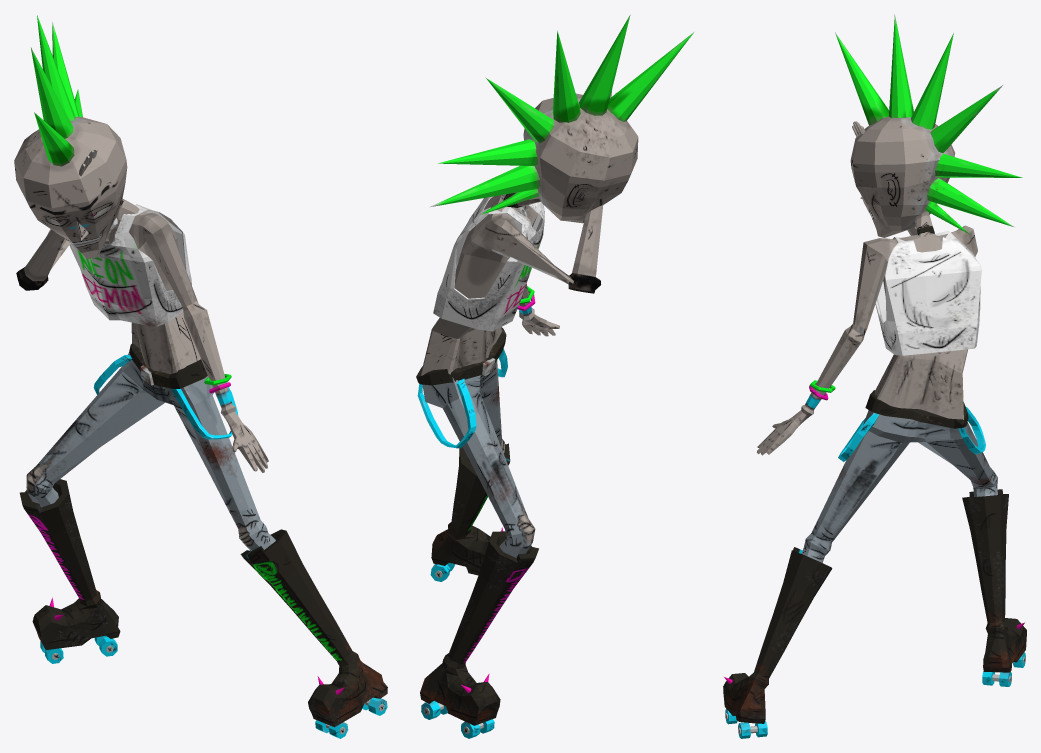
The model's file is punkAnimation_000028.obj.
3 renders of one model, left to right at view 1: azimuth 30°, elevation 25°; view 2: azimuth 150°, elevation 25°; view 3: azimuth 270°, elevation 25°, orthographic. The views are drawn at different scales.
Parts seen in each view (by area): view 1: Cube.004_Cube.003; view 2: Cube.004_Cube.003; view 3: Cube.004_Cube.003.
Boxes of the visible parts, x1,y1,x2,y2 form: Cube.004_Cube.003: (14,15,387,738); Cube.004_Cube.003: (416,15,693,738); Cube.004_Cube.003: (723,14,1026,738).
Size of the model in its own units: 3.13 by 6.72 by 3.01.
